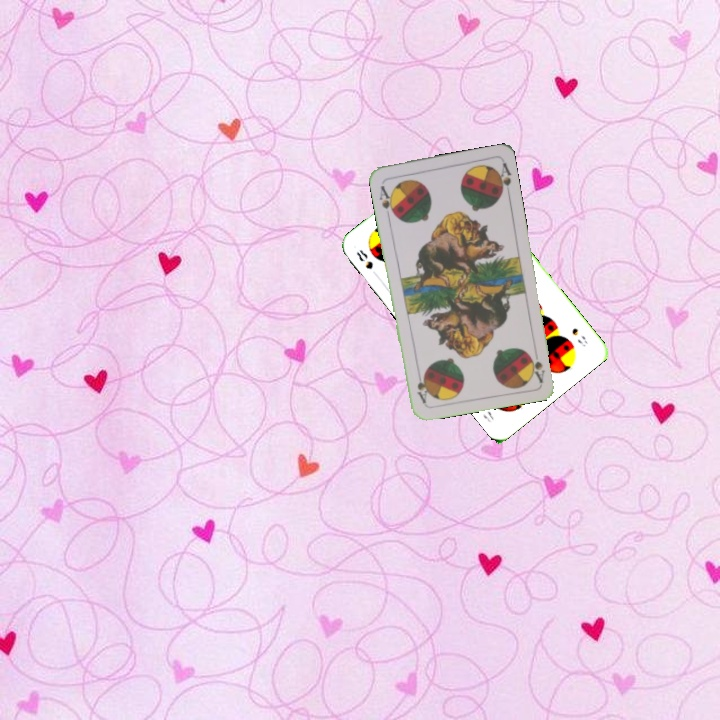S8: (352, 245, 376, 272), (568, 324, 590, 350)
SA: (525, 344, 547, 385), (375, 181, 398, 220)
